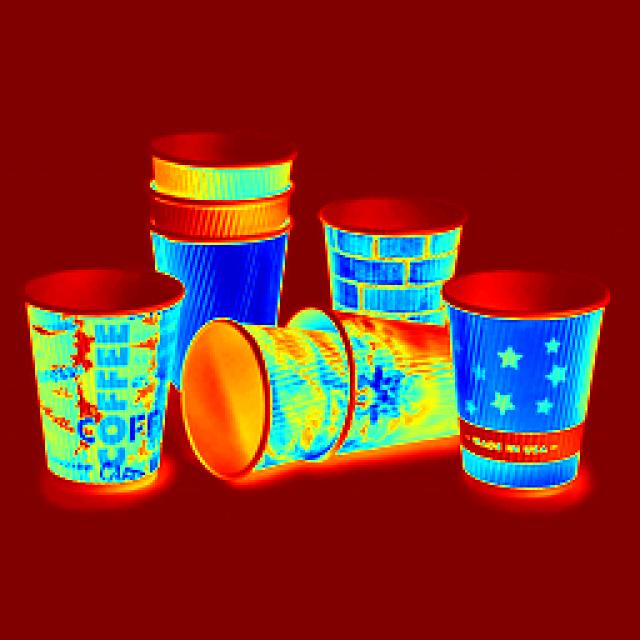Paper Cups: (192, 298, 413, 504), (441, 265, 606, 521), (23, 260, 186, 512), (137, 147, 296, 294), (318, 202, 456, 313)
